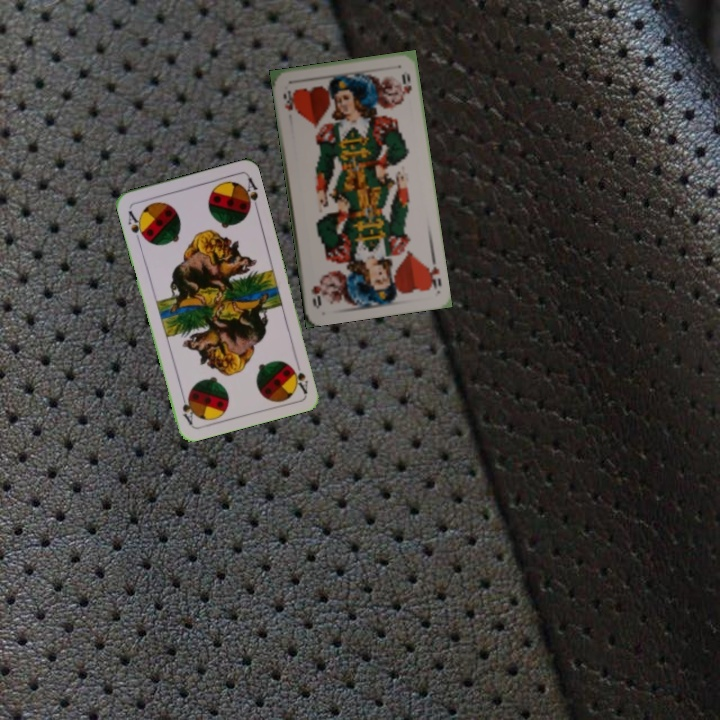HO: (422, 252, 444, 292), (279, 86, 296, 113)
SA: (287, 355, 311, 395), (124, 206, 148, 245)
